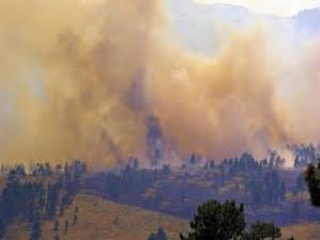smoke: (46, 32, 294, 162)
